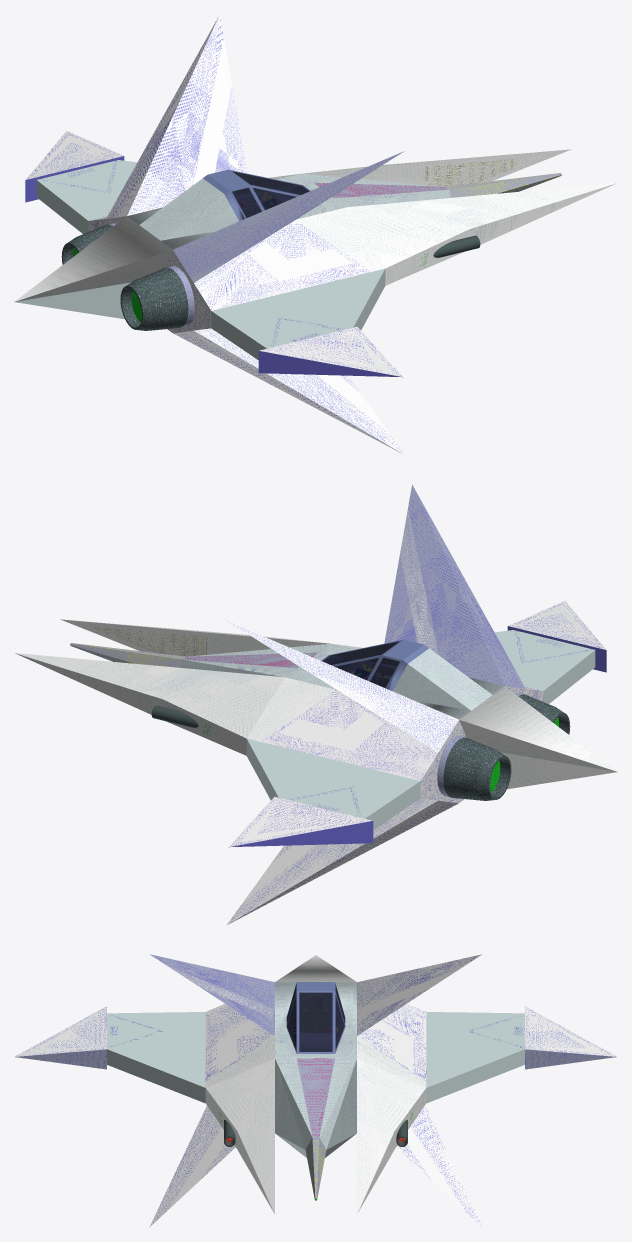
Rendered from Ship4.fbx.
3 renders of one model, top to bottom at view 1: azimuth 30°, elevation 25°; view 2: azimuth 150°, elevation 25°; view 3: azimuth 270°, elevation 25°, orthographic. The views are drawn at different scales.
Visible parts, largest first — view 1: Model, Double_Railgun_1_1; view 2: Model, Double_Railgun_1_1; view 3: Model, Double_Railgun_1_1.
Boxes of the visible parts, x1,y1,x2,y2 form: Model: (14, 14, 616, 455); Double_Railgun_1_1: (203, 169, 310, 221); Model: (15, 484, 617, 925); Double_Railgun_1_1: (321, 639, 428, 691); Model: (14, 954, 617, 1227); Double_Railgun_1_1: (286, 982, 345, 1053).
Size of the model in its own units: 449 by 226 by 451.
